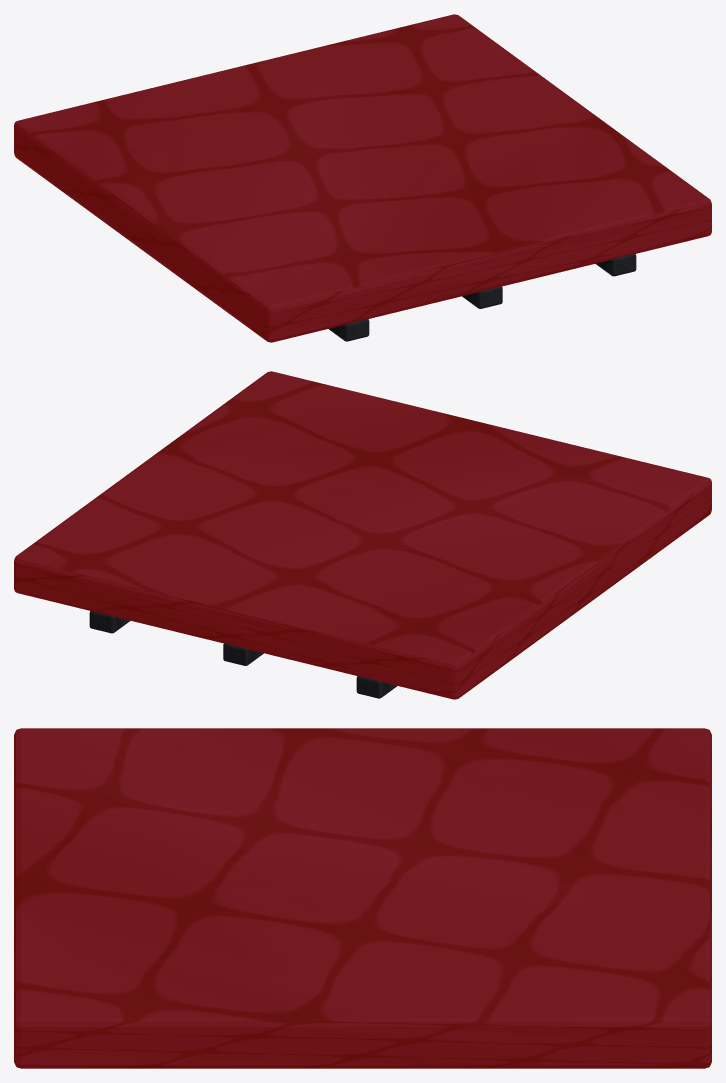
The model's file is SM_FC_Ceiling_400.glb.
The picture shows the model from 3 angles, top to bottom: view 1: azimuth 30°, elevation 25°; view 2: azimuth 150°, elevation 25°; view 3: azimuth 270°, elevation 25°; orthographic projection. The views are drawn at different scales.
Visible parts, largest first — view 1: SM_FC_Ceiling_400; view 2: SM_FC_Ceiling_400; view 3: SM_FC_Ceiling_400.
Boxes of the visible parts, x1,y1,x2,y2 form: SM_FC_Ceiling_400: (14, 14, 711, 342); SM_FC_Ceiling_400: (14, 371, 711, 699); SM_FC_Ceiling_400: (14, 728, 711, 1068).
Bounding box in the file's own units: 4 × 0.46 × 4.
2 materials, 2 textured.
